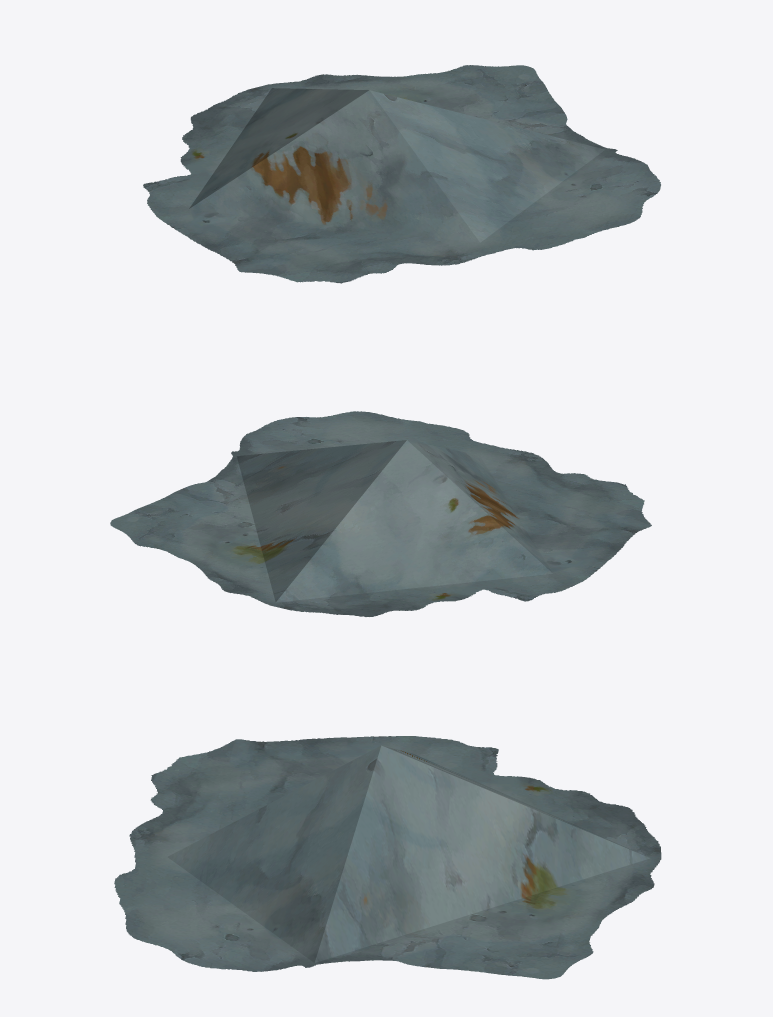
File: snowydecal_03.fbx
3 views of the same model, one above another, from view 1: azimuth 30°, elevation 25°; view 2: azimuth 150°, elevation 25°; view 3: azimuth 270°, elevation 25° (orthographic). The views are drawn at different scales.
Visible parts, largest first — view 1: obj0.034; view 2: obj0.034; view 3: obj0.034.
Boxes of the visible parts, x1=… form: obj0.034: x1=143, y1=65, x2=660, y2=283; obj0.034: x1=110, y1=411, x2=651, y2=616; obj0.034: x1=114, y1=736, x2=661, y2=979.
Size of the model in its own units: 4.41 by 0.723 by 4.8.
